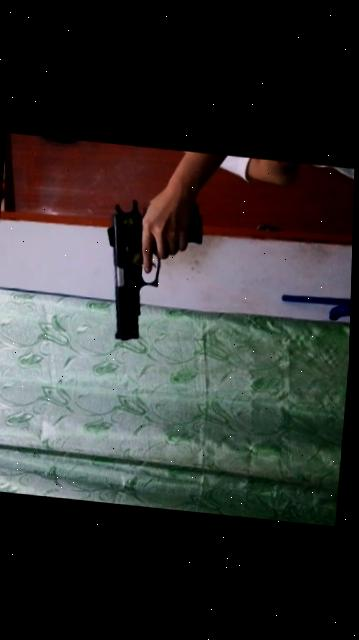pistol: (97, 189, 213, 353)
